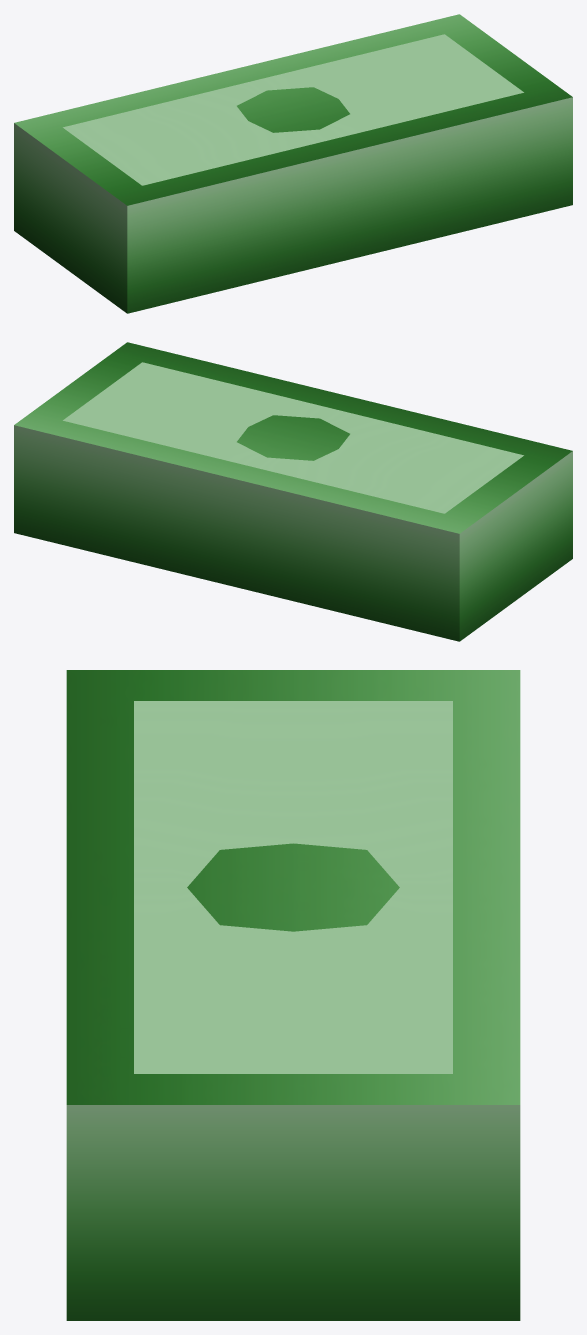
File: dollar.fbx
The picture shows the model from 3 angles, top to bottom: view 1: azimuth 30°, elevation 25°; view 2: azimuth 150°, elevation 25°; view 3: azimuth 270°, elevation 25°; orthographic projection. The views are drawn at different scales.
Parts seen in each view (by area): view 1: dollar; view 2: dollar; view 3: dollar.
Part boxes in pixels (bbox=[...]): dollar: bbox=[14, 14, 572, 313]; dollar: bbox=[14, 342, 572, 641]; dollar: bbox=[66, 670, 520, 1320].
Size of the model in its own units: 46.94 by 10.86 by 20.68.
